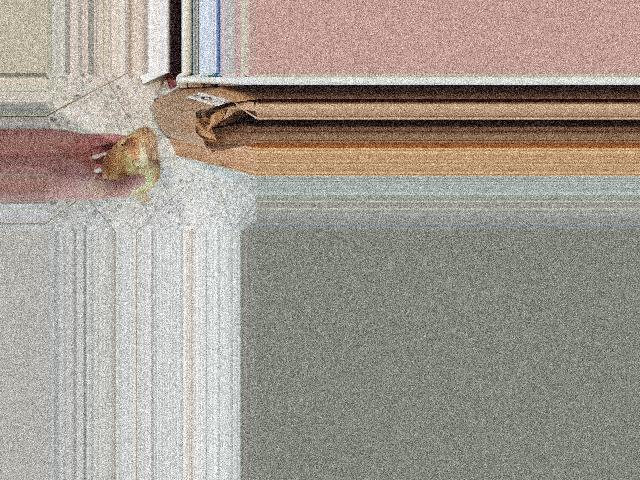onion: (95, 127, 170, 198)
